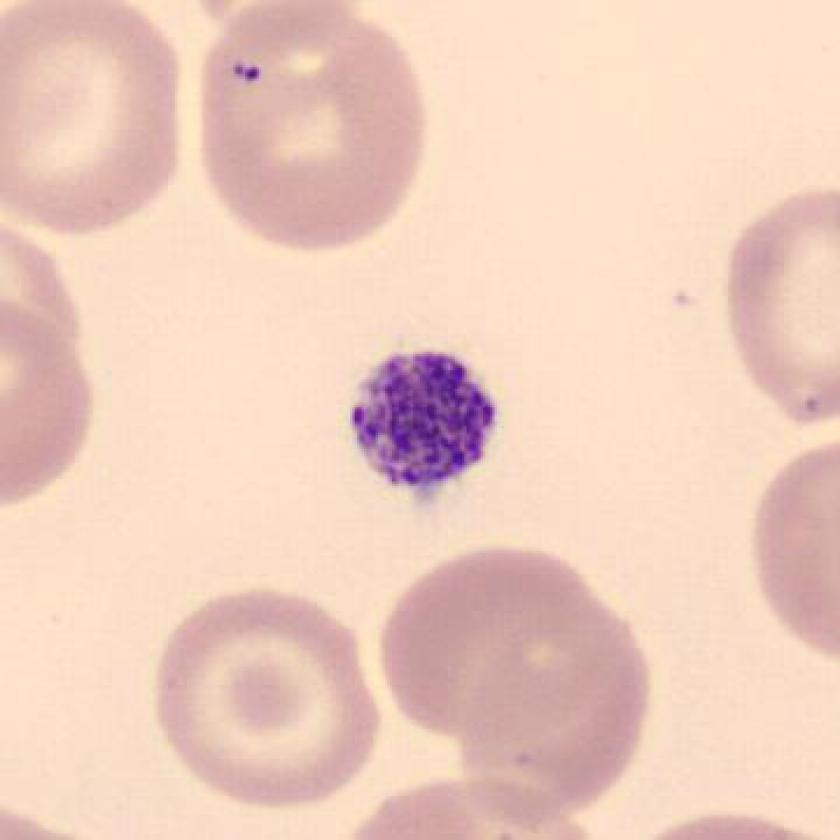platelets: (337, 334, 510, 503)
